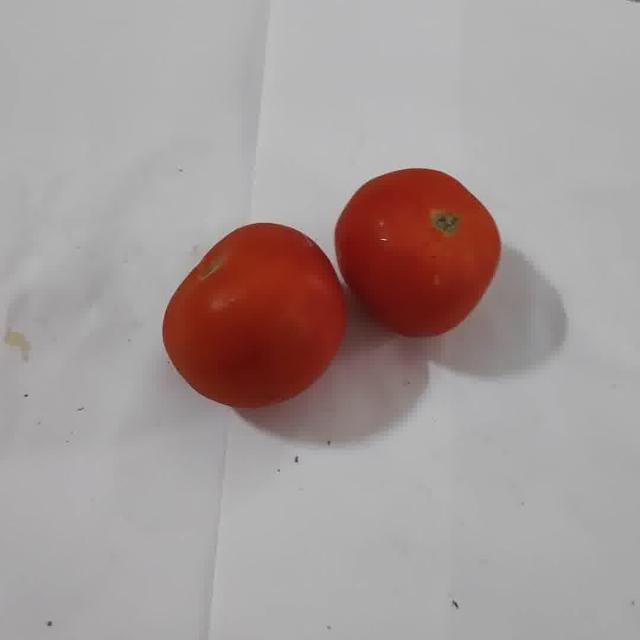Tomato: (163, 223, 345, 408)
